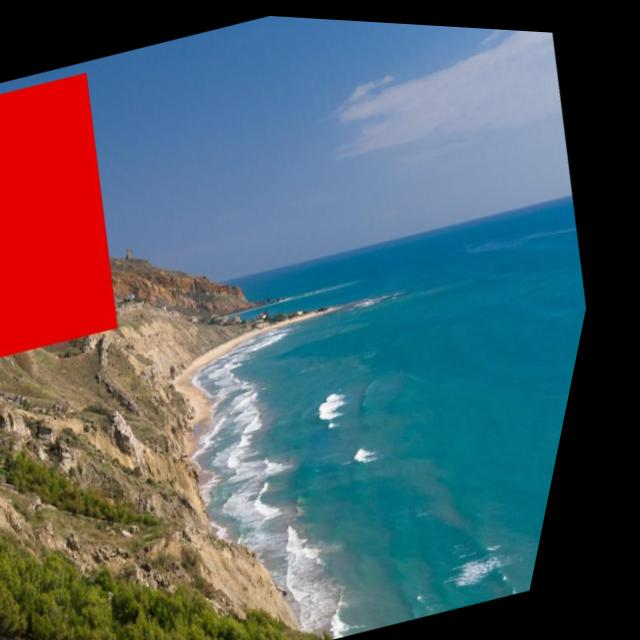RedSquare: (0, 53, 191, 391)
